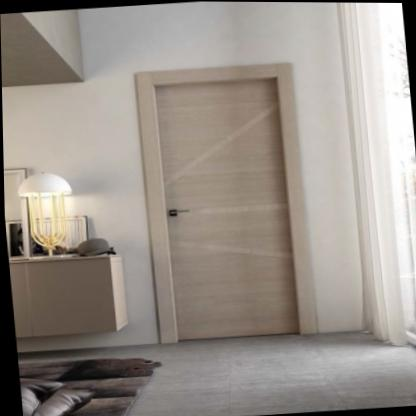Carpet: (17, 358, 161, 416)
Ceramic floor: (100, 333, 416, 416)
